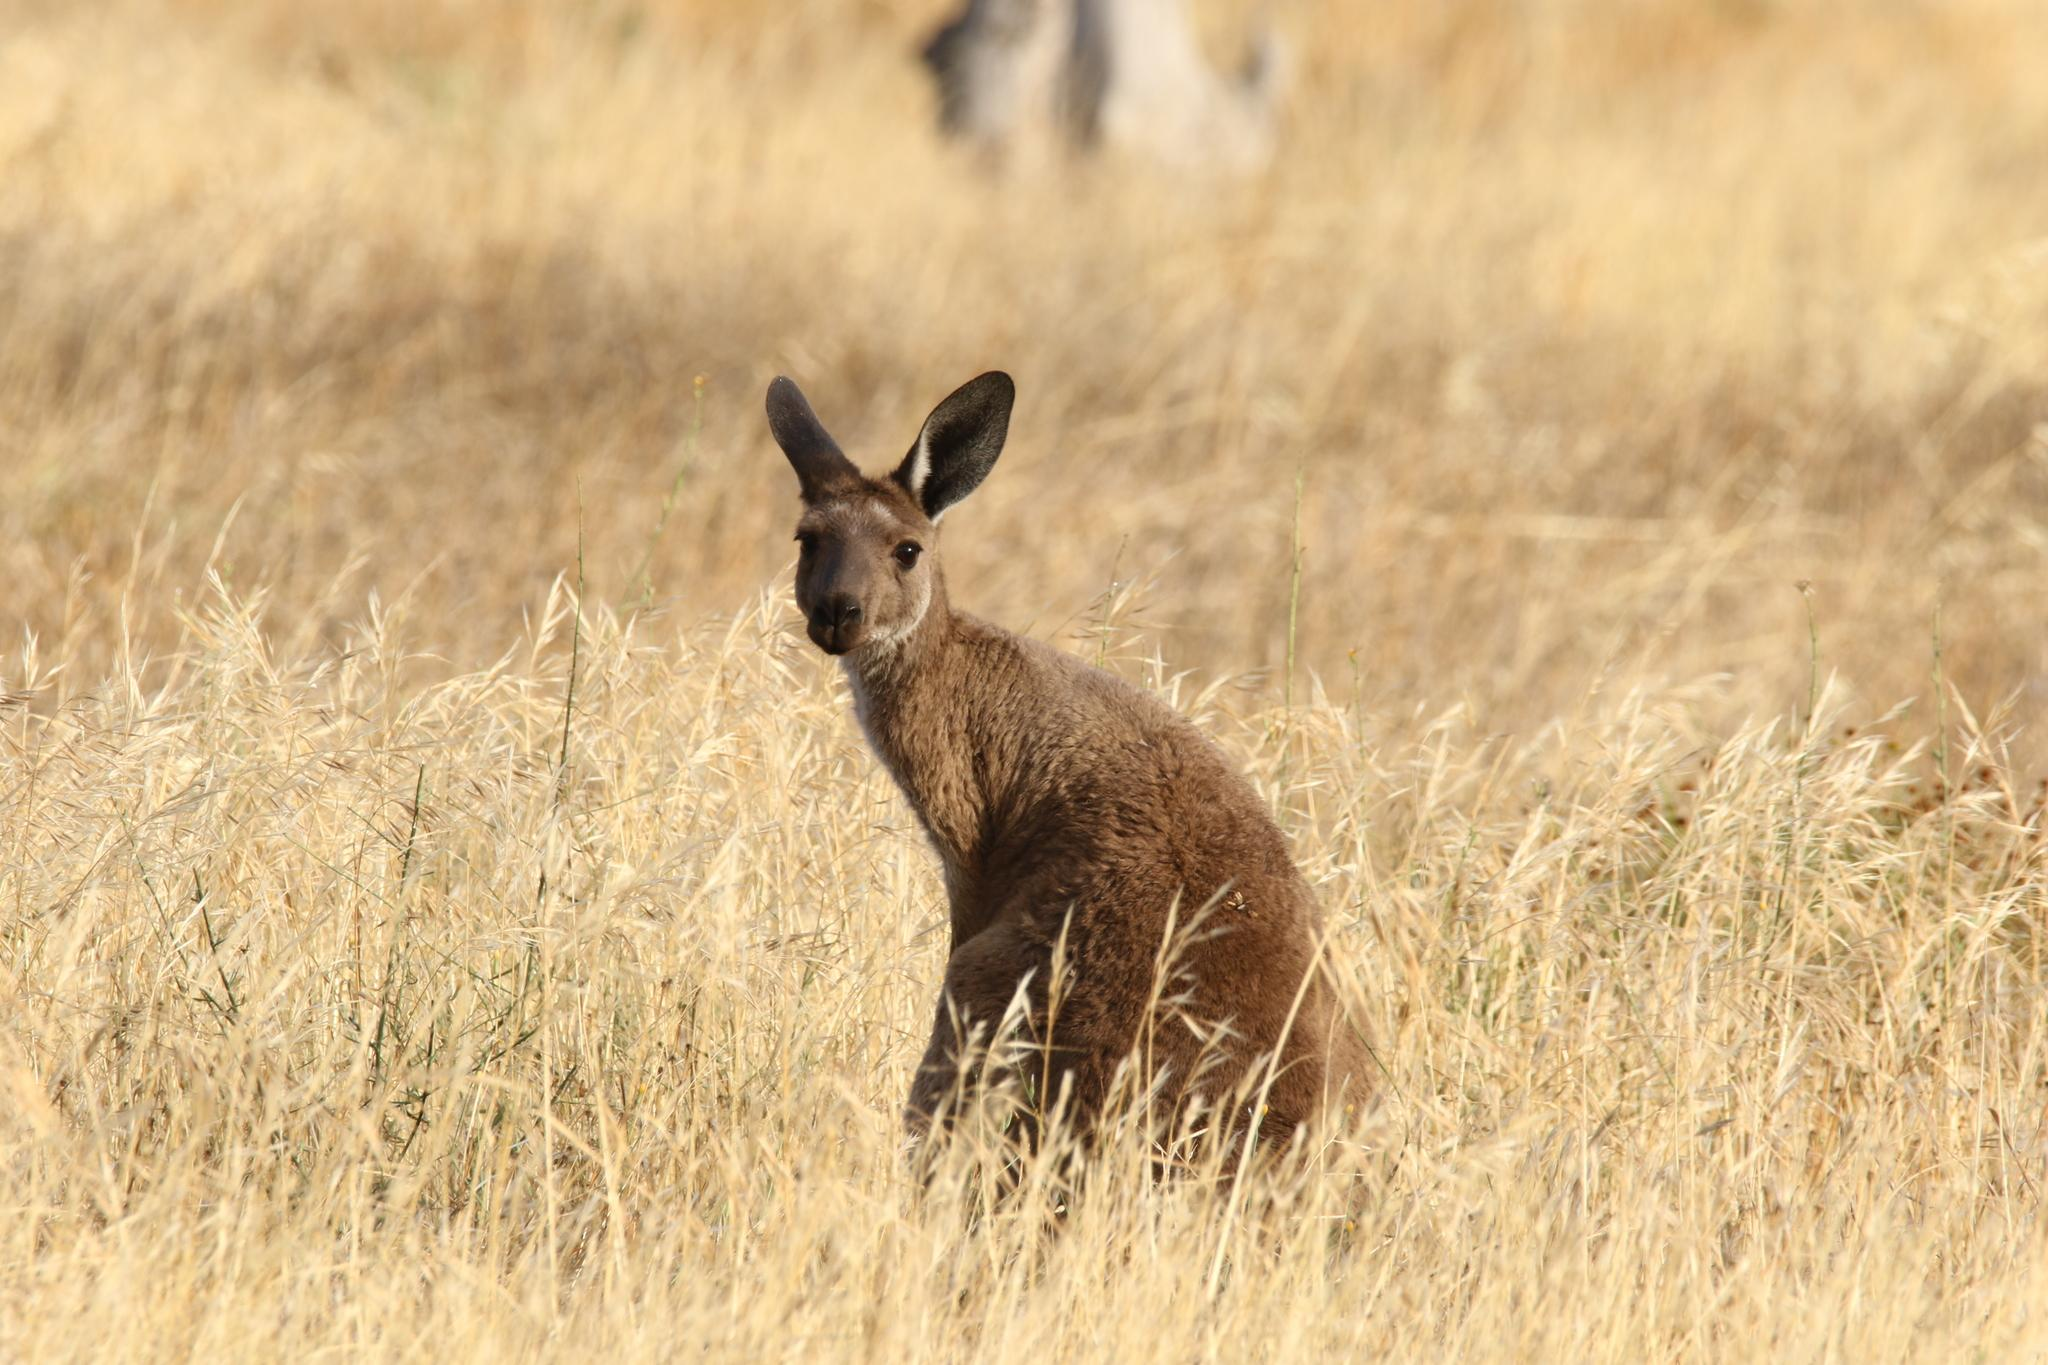Western grey kangaroo: (760, 367, 1398, 1225)
